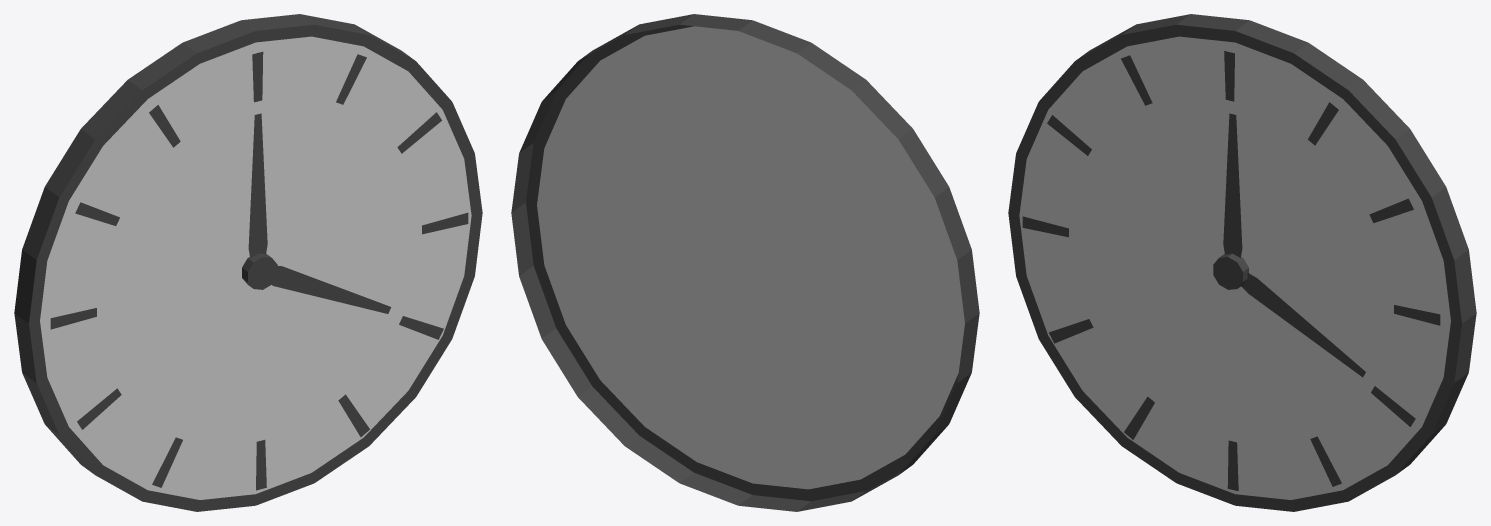
Rendered from Clock.fbx.
The picture shows the model from 3 angles, left to right: view 1: azimuth 30°, elevation 25°; view 2: azimuth 150°, elevation 25°; view 3: azimuth 330°, elevation 25°; orthographic projection.
Parts seen in each view (by area): view 1: Clock; view 2: Clock; view 3: Clock.
Part boxes in pixels (<box>): Clock: <box>14,14,482,511</box>; Clock: <box>511,14,979,511</box>; Clock: <box>1008,14,1476,511</box>.
Bounding box in the file's own units: 83.2 × 83.2 × 6.88.
